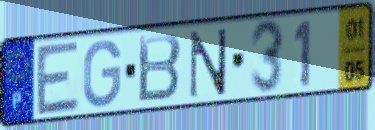1: (293, 18, 313, 89)
3: (248, 16, 286, 98)
B: (136, 31, 183, 106)
E: (35, 38, 82, 119)
G: (81, 38, 124, 110)
N: (187, 26, 230, 101)
